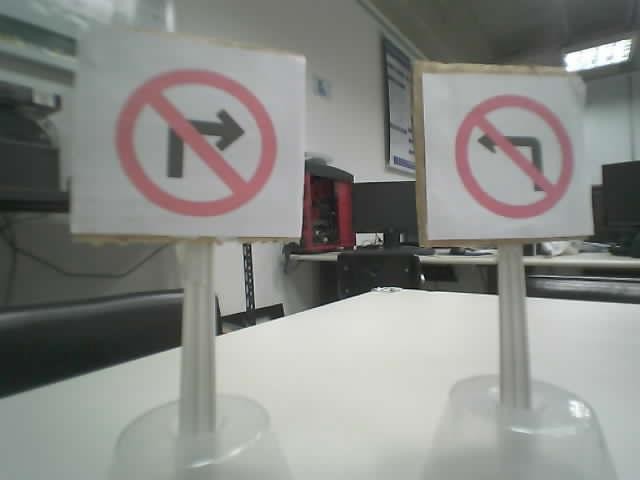R-25a_esquerda: (452, 93, 574, 218)
R-4b_proibido-direita: (114, 67, 276, 215)
